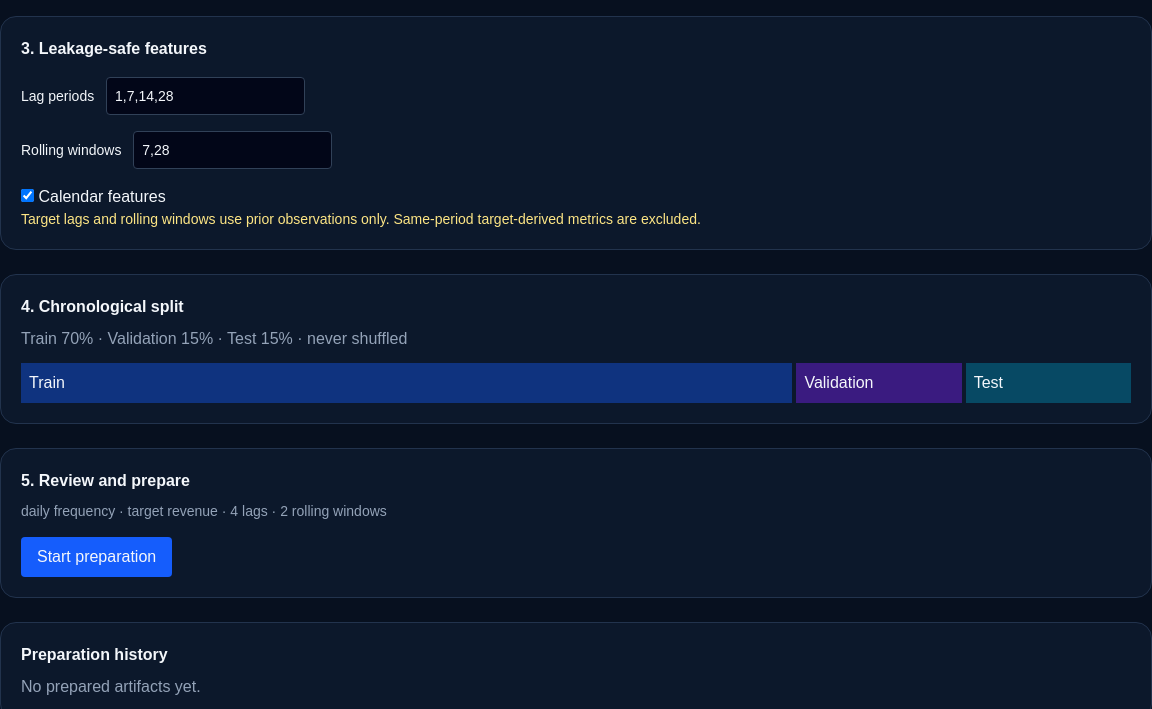
Test: successful preparation submission renders governed result
The image size is (1152, 709).
(page scrolled)
Click the button "Start preparation" at (97, 557), box [21,537,172,577]
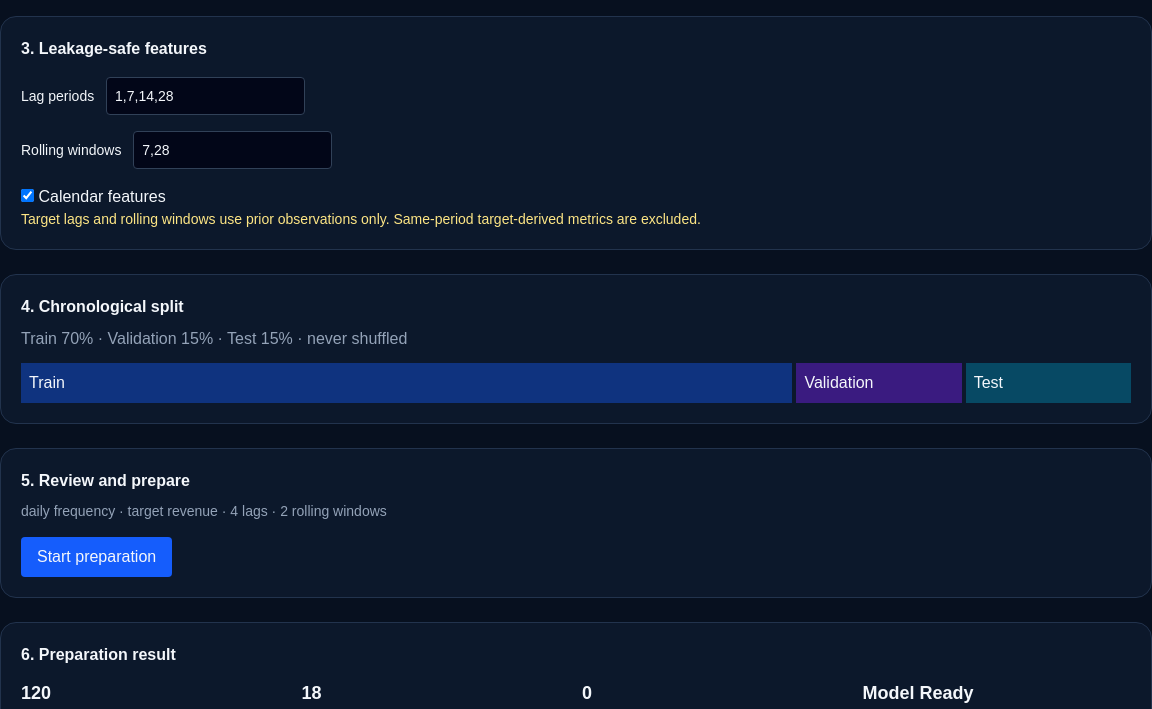
Result: the heading "6. Preparation result" is shown at [21,646,176,663]
Result: the text "18" is shown at [302,683,322,703]
